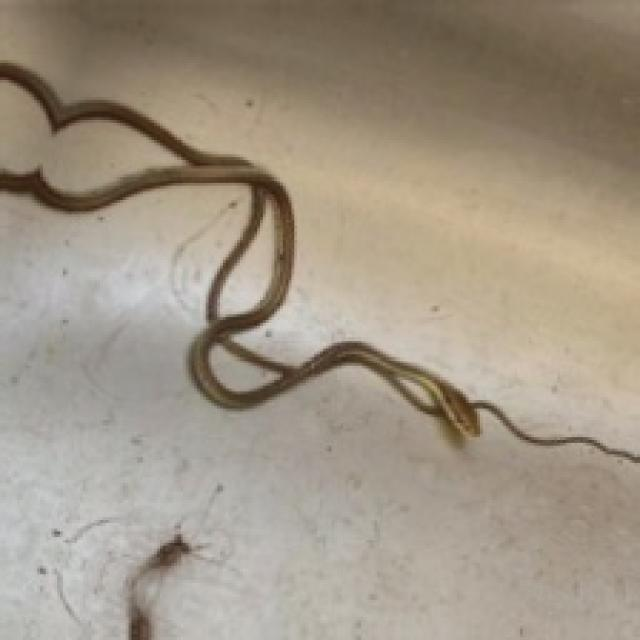luzon bronzeback treesnake: (0, 63, 637, 460)
